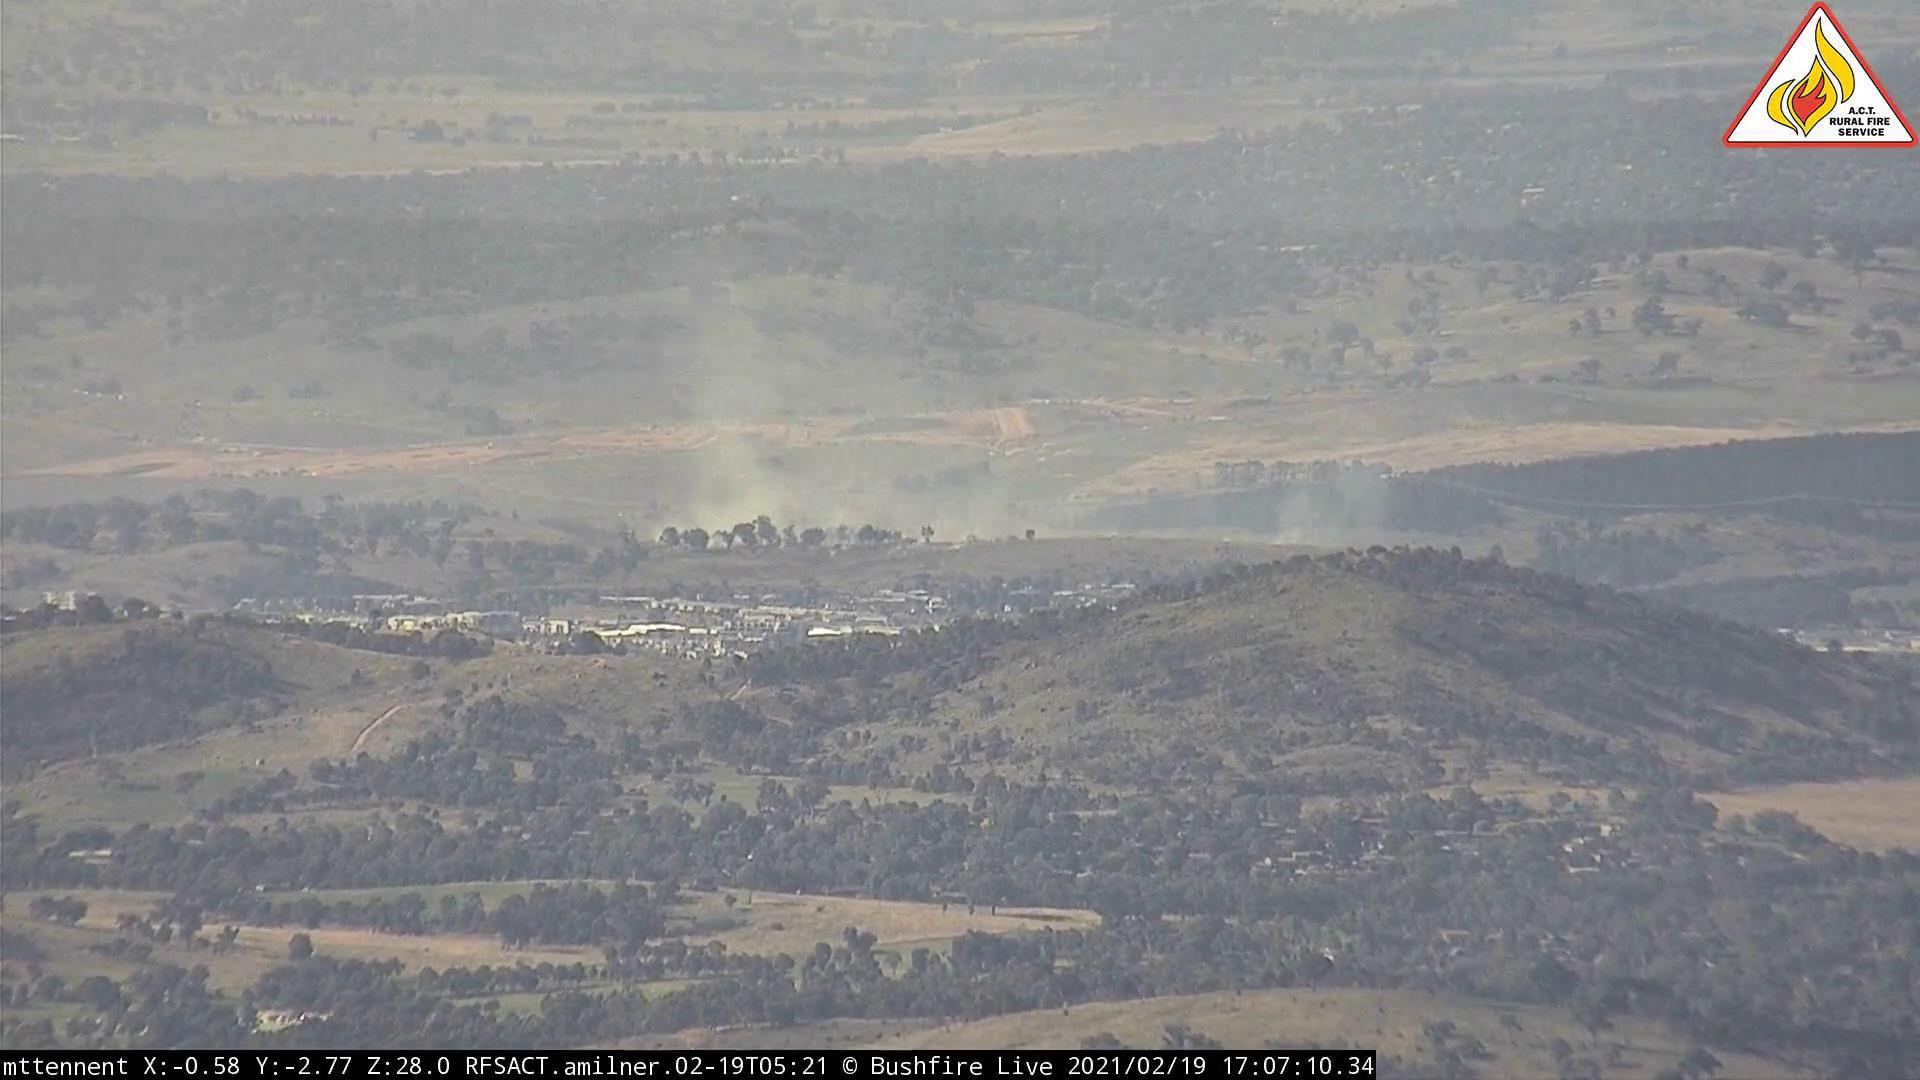instance_salient_object: (659, 322, 1050, 559), (1273, 444, 1416, 550)
